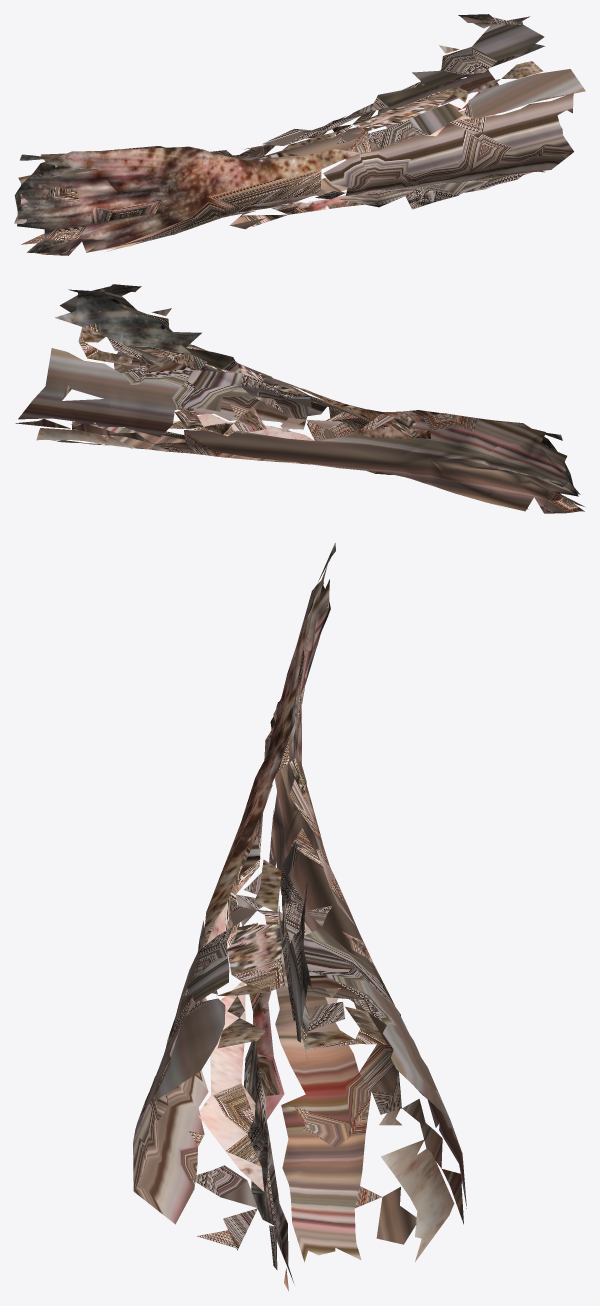
The model's file is bartail_b.glb.
3 renders of one model, top to bottom at view 1: azimuth 30°, elevation 25°; view 2: azimuth 150°, elevation 25°; view 3: azimuth 270°, elevation 25°, orthographic. The views are drawn at different scales.
Parts seen in each view (by area): view 1: bartail_b; view 2: bartail_b; view 3: bartail_b.
Part boxes in pixels (x1,y1,x2,y2): bartail_b: (14,14,585,255); bartail_b: (15,284,584,513); bartail_b: (133,543,466,1291).
Bounding box in the file's own units: 0.1933 × 0.0602 × 0.0529.
1 material, 1 textured.
